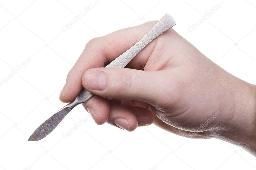scalpel: (28, 14, 176, 142)
